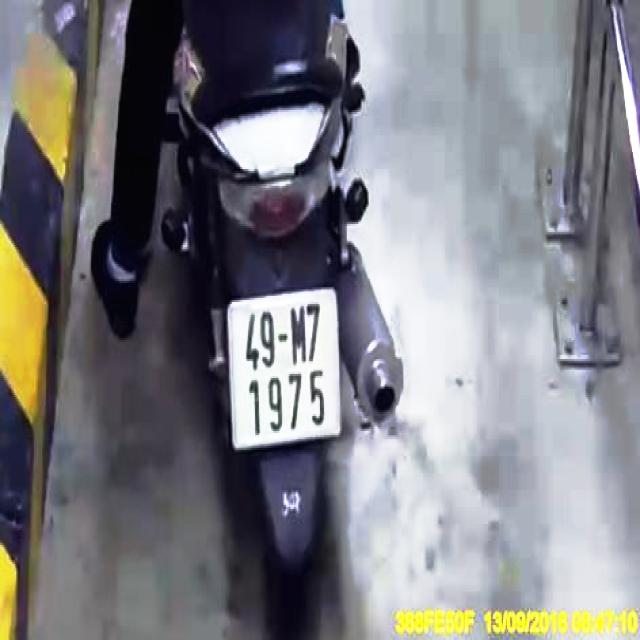license_plate: (231, 293, 344, 452)
